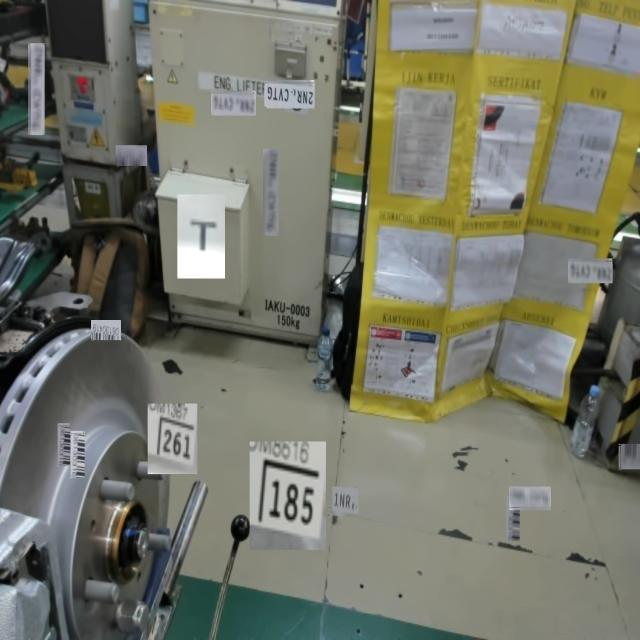Compressor-T: (179, 202, 221, 264)
Disc-SV: (48, 403, 146, 636)
Engine Assy-185: (254, 457, 319, 538)
Engine Assy-261: (152, 408, 196, 472)
